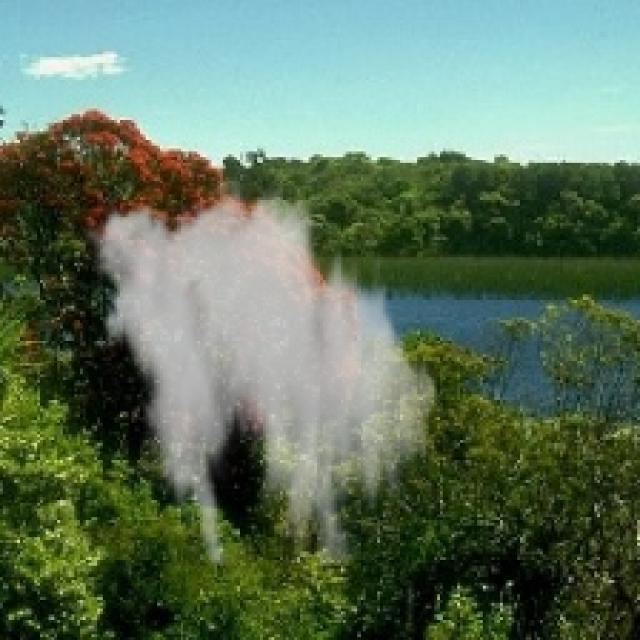Smoke: (77, 174, 449, 566)
